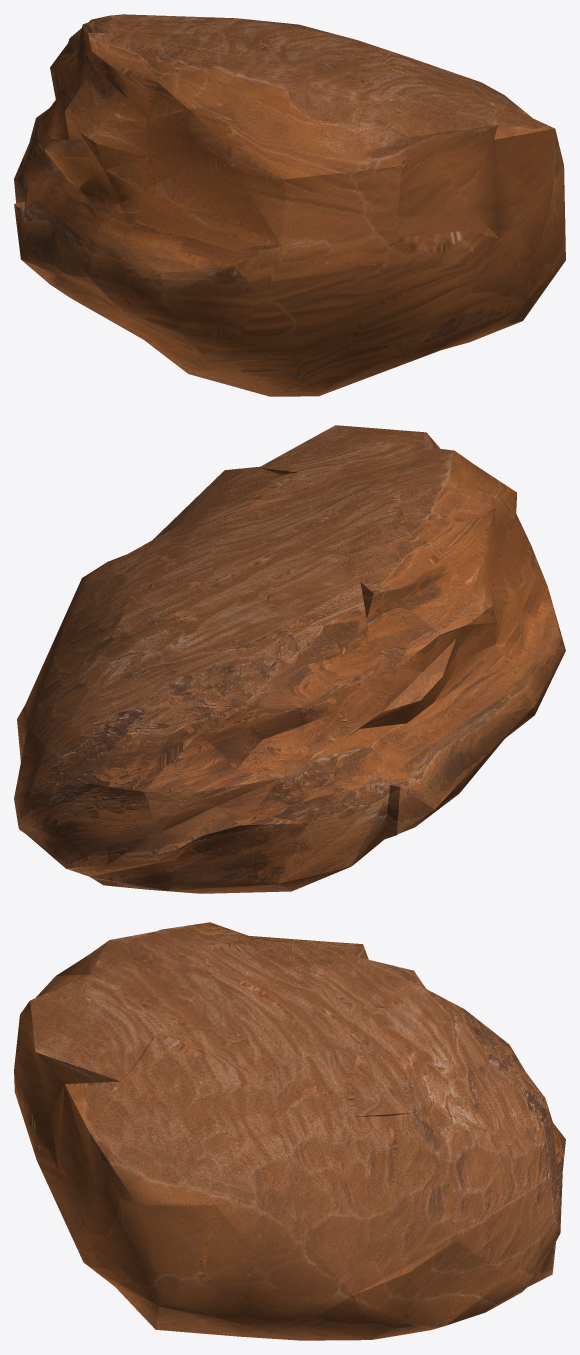
Rendered from de_ventifact_boulder_lod1.glb.
3 renders of one model, top to bottom at view 1: azimuth 30°, elevation 25°; view 2: azimuth 150°, elevation 25°; view 3: azimuth 270°, elevation 25°, orthographic. The views are drawn at different scales.
Visible parts, largest first — view 1: mesh; view 2: mesh; view 3: mesh.
Part boxes in pixels (bbox=[...]): mesh: bbox=[14, 14, 565, 396]; mesh: bbox=[14, 425, 565, 893]; mesh: bbox=[14, 922, 565, 1340].
Size of the model in its own units: 1.54 by 1.04 by 1.79.
Materials: 1 (1 with a texture image).
